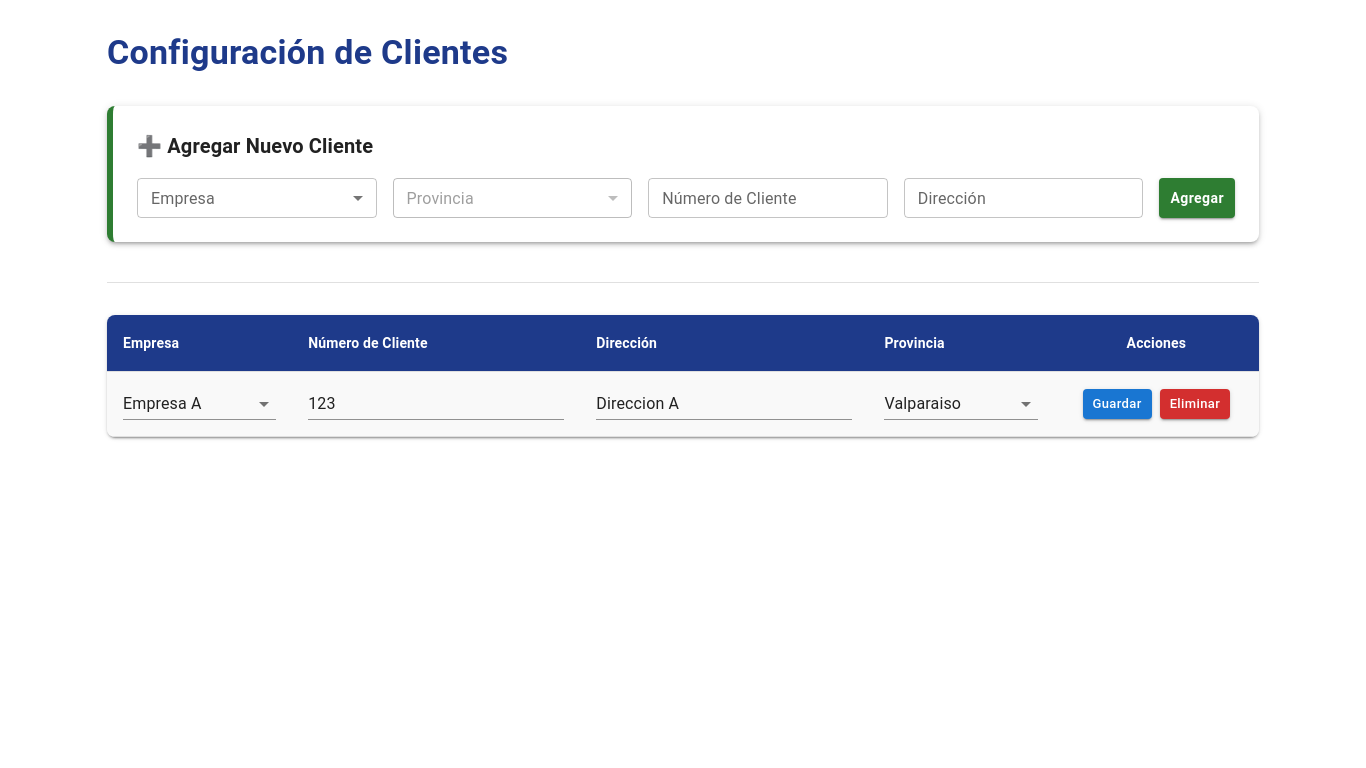
Una escritura fallida no invalida la cache
Click the button "Guardar". click: coordinates (1117, 404)
box: [1082,389,1152,419]
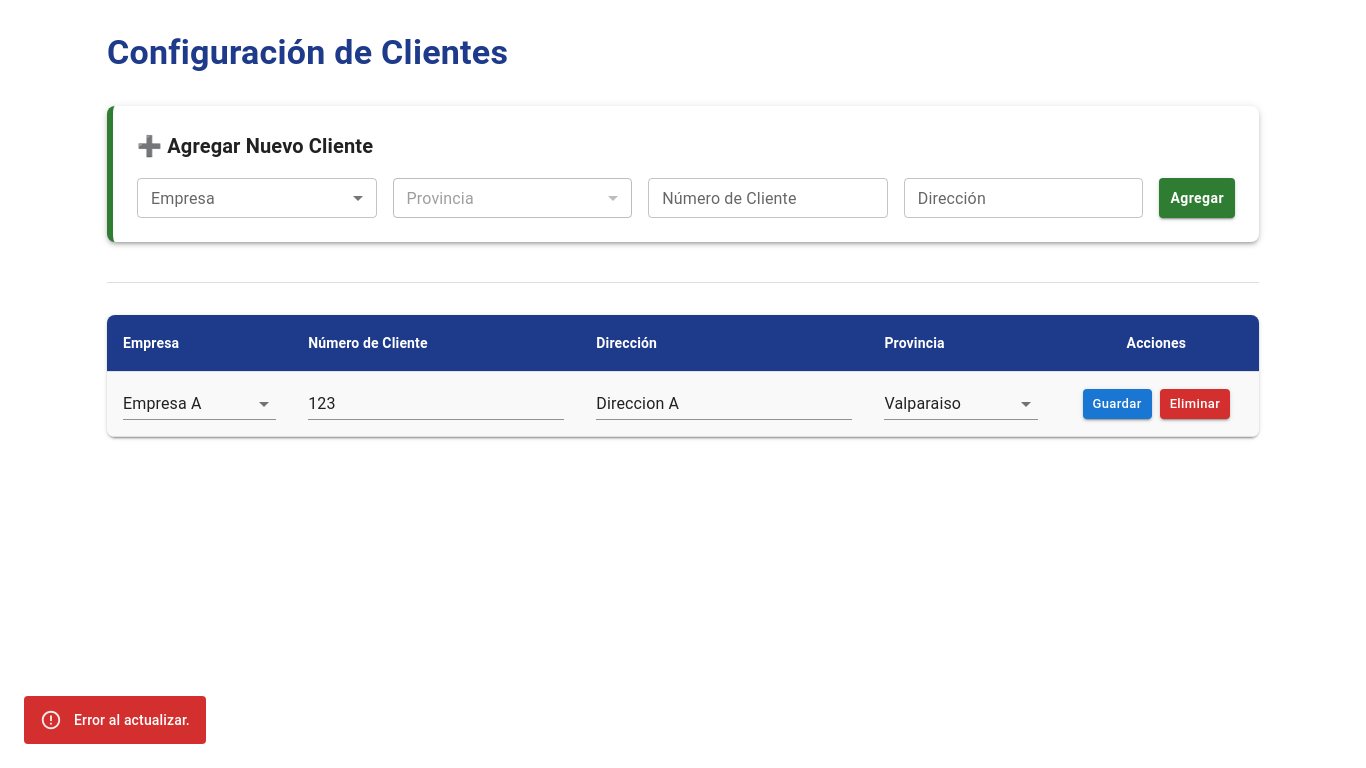
Expected: the text "Error al actualizar." is shown, [74,712,190,728]
